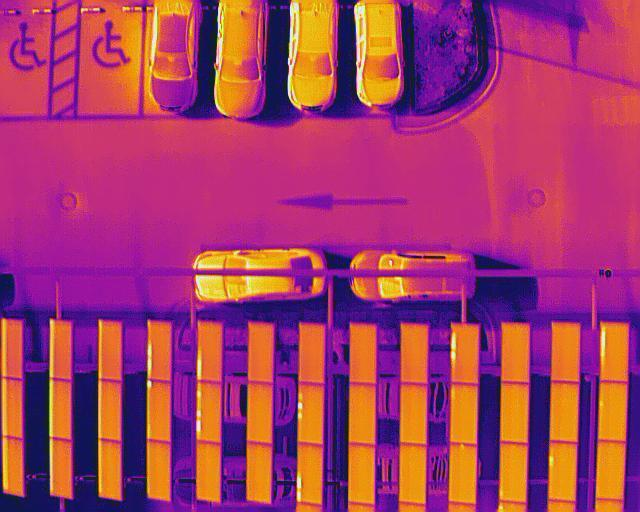Cell: (547, 441, 576, 501), (147, 382, 170, 442)
Cell-Multi: (297, 382, 324, 445), (196, 381, 222, 442)
No-Anomaly: (448, 383, 479, 444), (501, 380, 530, 443), (347, 383, 376, 446), (499, 441, 528, 503), (550, 381, 579, 442), (598, 380, 627, 441), (596, 440, 625, 500), (399, 384, 427, 446), (501, 325, 530, 384), (551, 323, 580, 381), (448, 443, 476, 503), (348, 444, 375, 506), (398, 444, 425, 505), (349, 323, 376, 384), (400, 324, 427, 384), (298, 323, 324, 384), (248, 324, 274, 385), (246, 441, 271, 502), (248, 382, 272, 445), (196, 441, 220, 502), (99, 379, 122, 441), (147, 441, 171, 500), (98, 440, 121, 498), (2, 377, 23, 440), (2, 436, 24, 496), (99, 322, 122, 379), (49, 319, 71, 378), (49, 437, 71, 496), (49, 378, 70, 439), (1, 319, 21, 380)
Unclassified: (450, 324, 479, 385), (600, 322, 628, 384), (296, 444, 322, 504), (197, 322, 222, 384), (148, 322, 171, 381)
